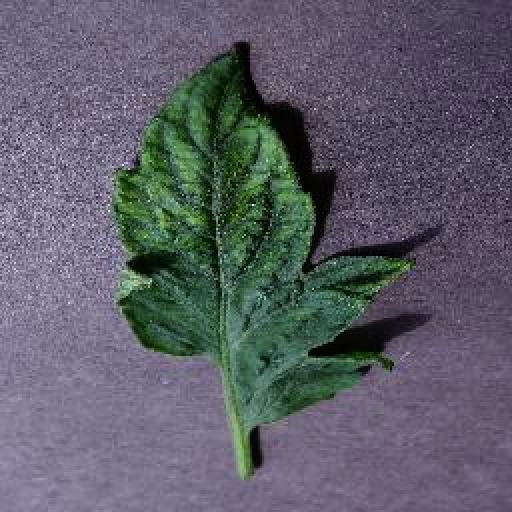Mosaic Virus: (116, 36, 422, 428)
